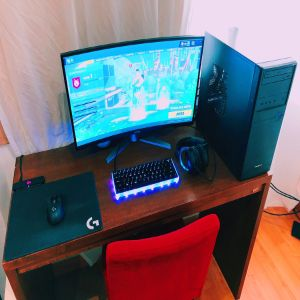headset: (170, 134, 224, 183)
keyboard: (105, 157, 178, 195)
mouse: (45, 192, 66, 225)
